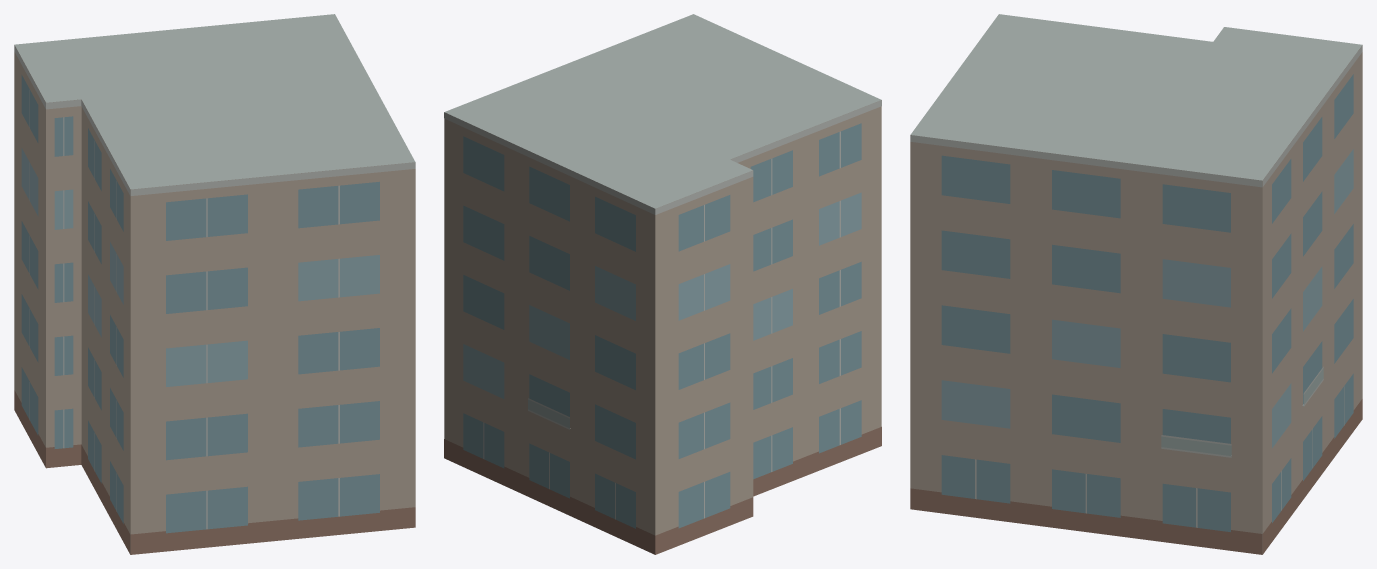
File: survey-upis-32975281.glb
3 renders of one model, left to right at view 1: azimuth 30°, elevation 25°; view 2: azimuth 150°, elevation 25°; view 3: azimuth 270°, elevation 25°, orthographic. The views are drawn at different scales.
Visible parts, largest first — view 1: survey-upis-32975281.tmp; view 2: survey-upis-32975281.tmp; view 3: survey-upis-32975281.tmp.
Boxes of the visible parts, left/top/right/bottom form: survey-upis-32975281.tmp: left=14, top=14, right=415, bottom=554; survey-upis-32975281.tmp: left=444, top=14, right=881, bottom=554; survey-upis-32975281.tmp: left=910, top=14, right=1362, bottom=554.
Size of the model in its own units: 12.7 by 13.3 by 14.57.
